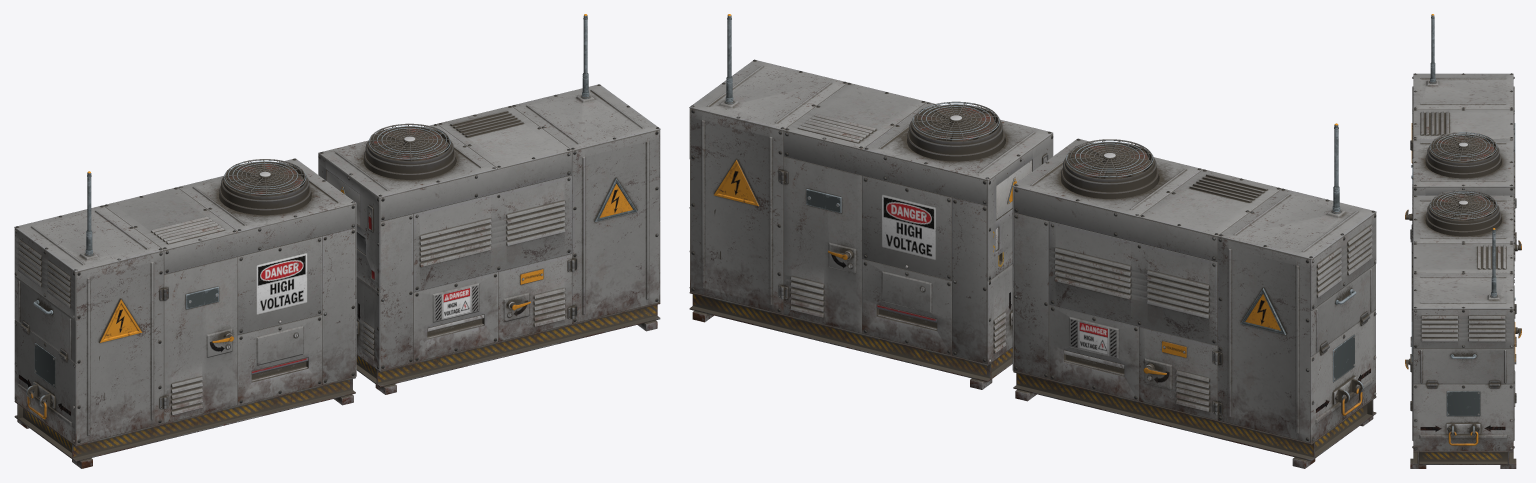
The model's file is factory__electrical__box_12_mb.glb.
3 views of the same model, side by side, from view 1: azimuth 30°, elevation 25°; view 2: azimuth 150°, elevation 25°; view 3: azimuth 270°, elevation 25° (orthographic). The views are drawn at different scales.
Parts seen in each view (by area): view 1: object_0_object_0_0, object_0_1_object_0_0, object_1_object_1_0, object_1_1_object_1_0; view 2: object_0_object_0_0, object_0_1_object_0_0, object_1_object_1_0, object_1_1_object_1_0; view 3: object_0_1_object_0_0, object_0_object_0_0, object_1_1_object_1_0, object_1_object_1_0.
Boxes of the visible parts, bbox=[...] form: object_0_object_0_0: bbox=[14, 158, 356, 468]; object_0_1_object_0_0: bbox=[318, 14, 660, 394]; object_1_object_1_0: bbox=[26, 160, 306, 406]; object_1_1_object_1_0: bbox=[342, 15, 637, 221]; object_0_object_0_0: bbox=[1012, 123, 1376, 468]; object_0_1_object_0_0: bbox=[689, 14, 1053, 389]; object_1_object_1_0: bbox=[1066, 125, 1363, 401]; object_1_1_object_1_0: bbox=[725, 15, 1015, 213]; object_0_1_object_0_0: bbox=[1405, 190, 1521, 468]; object_0_object_0_0: bbox=[1405, 14, 1521, 346]; object_1_1_object_1_0: bbox=[1411, 191, 1515, 435]; object_1_object_1_0: bbox=[1411, 15, 1515, 183].
Size of the model in its own units: 6.21 by 2.75 by 1.25.
Materials: 2 (2 with a texture image).
